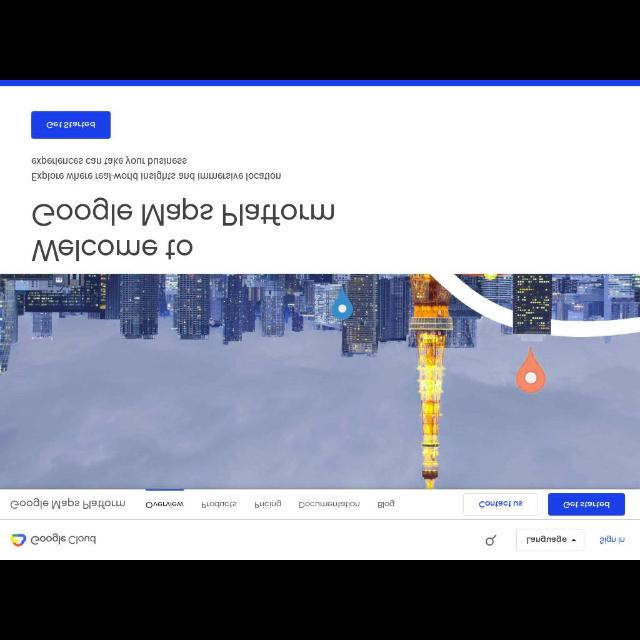icon: (486, 532, 496, 546), (570, 536, 576, 542)
image: (1, 276, 639, 488), (10, 532, 96, 548)
multitab: (1, 489, 639, 521)
spinner: (517, 528, 583, 550)
text: (33, 202, 335, 262), (30, 158, 282, 182), (12, 500, 126, 510), (298, 500, 360, 510), (47, 120, 95, 130), (478, 499, 522, 509), (526, 535, 566, 545), (564, 500, 610, 508), (202, 499, 236, 509), (600, 534, 626, 546), (146, 501, 182, 509), (254, 499, 282, 509), (378, 499, 394, 509)
textbutton: (31, 112, 111, 138), (548, 494, 626, 514), (464, 494, 538, 514)
toolbar: (1, 520, 639, 560)
